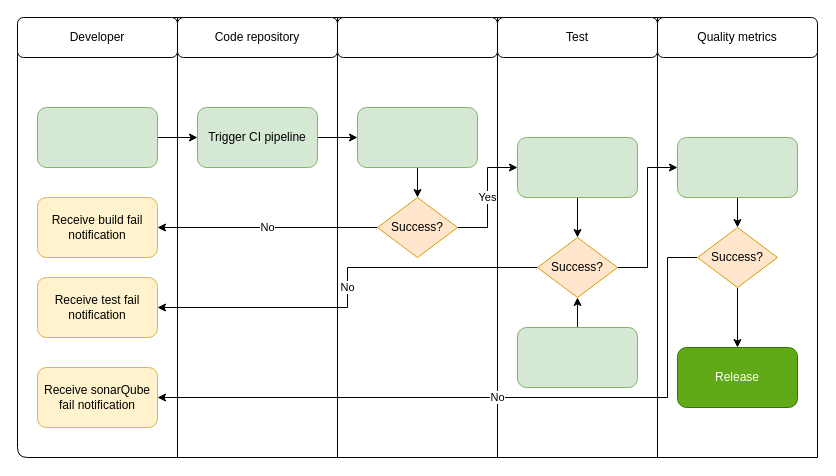
This 836x476 diagram has some shape labels left out. Here are the shapes that lost their labels. From the top down, the centre of each, then its label:
At [417,37]: "Build".
At [97,137]: "Commit code to repository".
At [417,137]: "Build new version".
At [577,167]: "Run unit tests".
At [737,167]: "Trigger sonarQube quality check".
At [577,357]: "User acceptance tests".
